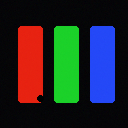0 point: (37, 95, 43, 101)
